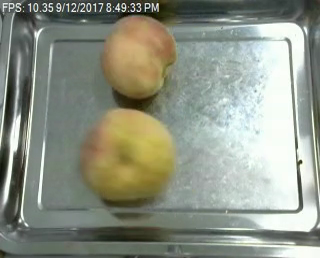Peach: (82, 107, 173, 204), (101, 14, 177, 98)
